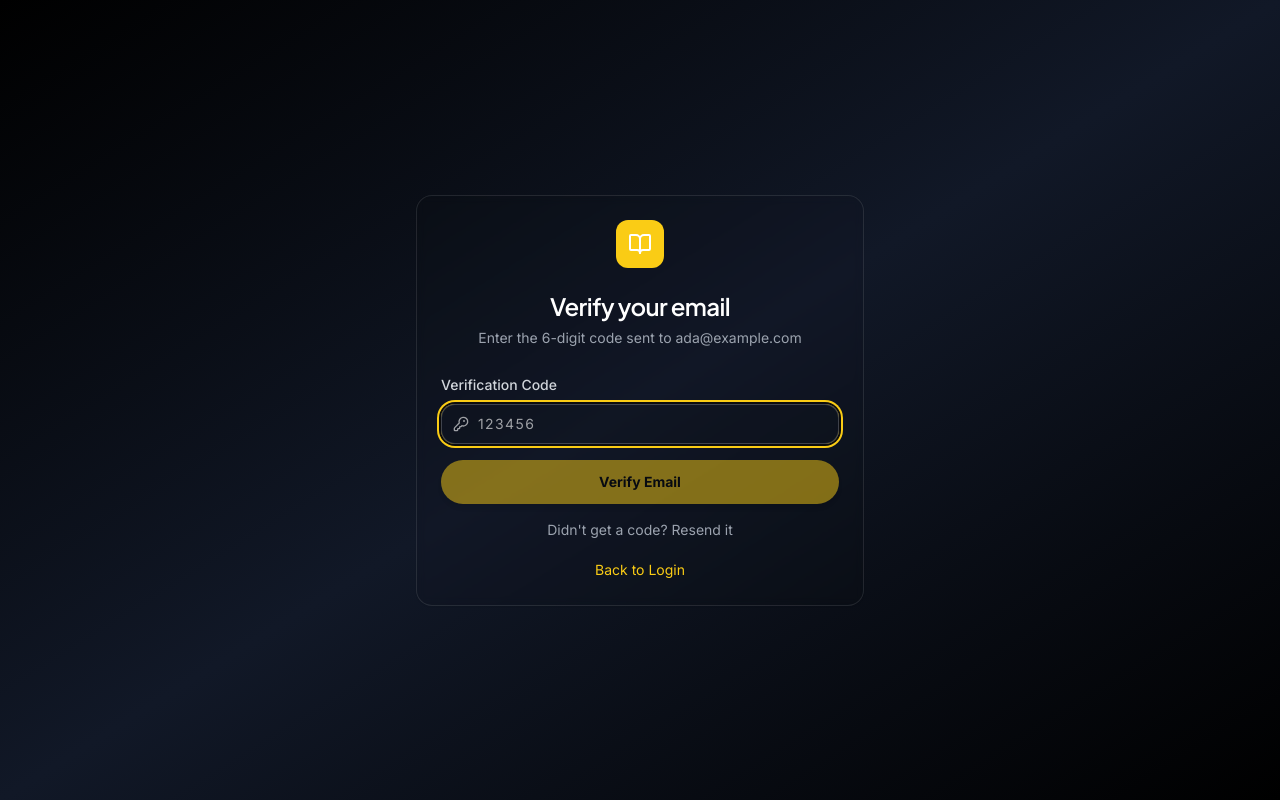
Scenario: VerifyEmail page (OTP entry) › only strips non-digit characters and caps the code at 6 digits
Type "12ab34" into the field labelled "Verification Code".
click(640, 424); type("12ab34")  # box x1=441 y1=404 x2=839 y2=444
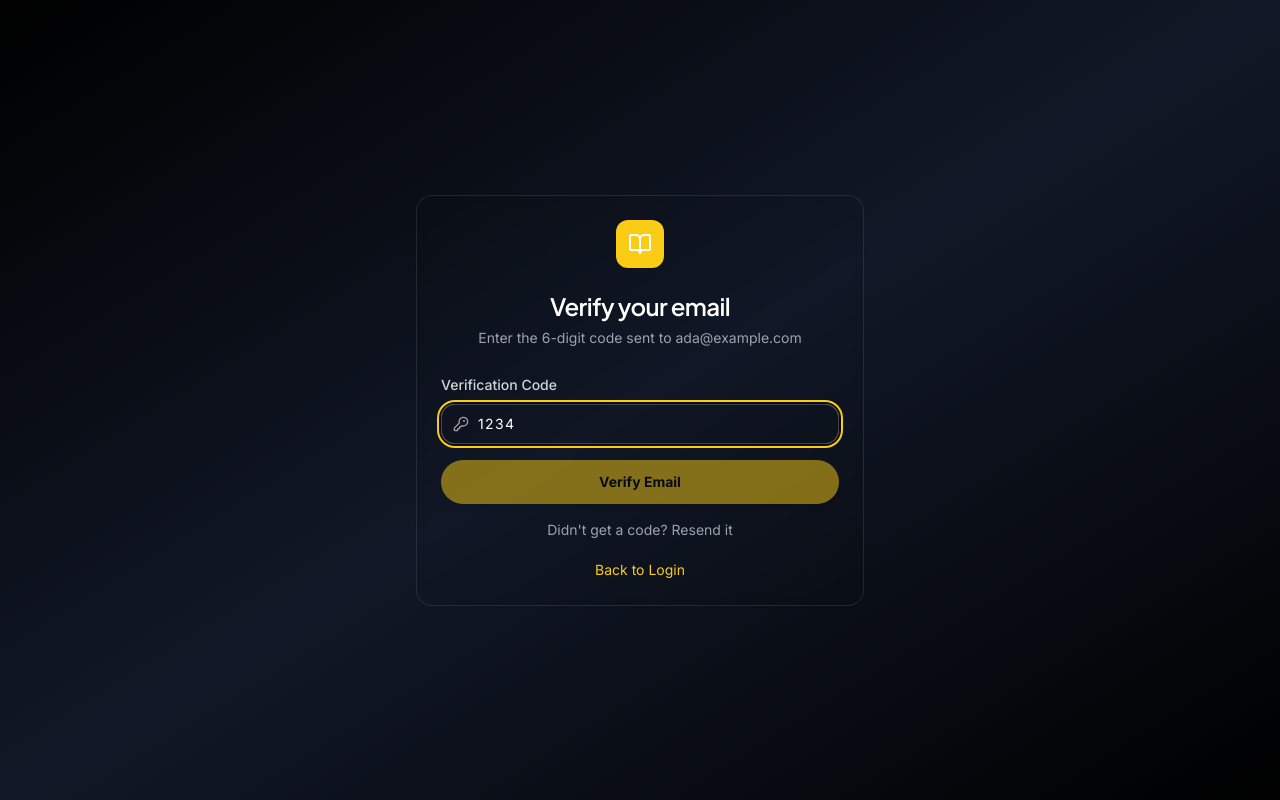
Expected: the field labelled "Verification Code" holds "1234", x1=441 y1=404 x2=839 y2=444
